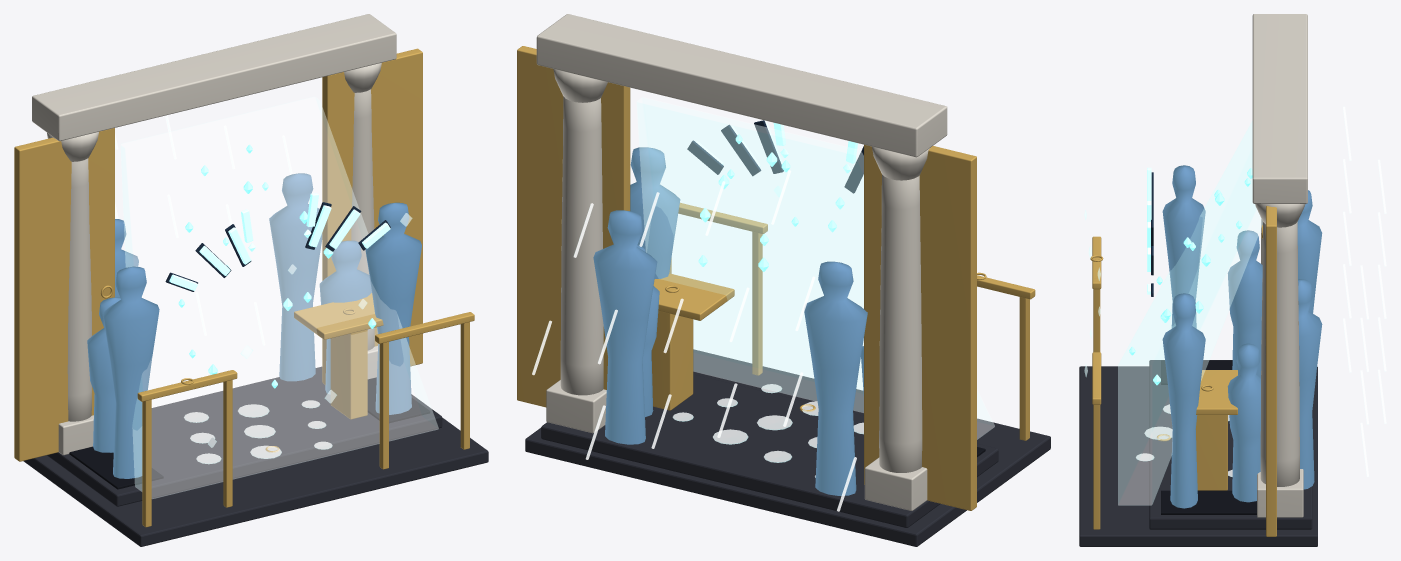
Rendered from webtoon-weather-abyss-storm-mist-100pct-v24.glb.
3 views of the same model, side by side, from view 1: azimuth 30°, elevation 25°; view 2: azimuth 150°, elevation 25°; view 3: azimuth 270°, elevation 25° (orthographic). The views are drawn at different scales.
Parts seen in each view (by area): view 1: Volumetric_V24Beat3_Storm_GodRaySlit, Articulated_V24Beat3_Storm_DoorsAndIkRig, V24Beat3_Storm_DatumDeck, V24Beat3_Storm_PortalColonnade, DatumCrowd_V24Beat3_Storm_Silhouettes, ZDepthSFX_V24Beat3_Storm_GlyphCore, ShadowDrift_V24Beat3_Storm_UmbraMask, Weather_V24Beat3_Storm_IndoorWetRipples, Weather_V24Beat3_Storm_ExteriorOccluded, ZDepthSFX_V24Beat3_Storm_ShadowPlate, Atmospheric_V24Beat3_Storm_MidMotes; view 2: Articulated_V24Beat3_Storm_DoorsAndIkRig, V24Beat3_Storm_PortalColonnade, Volumetric_V24Beat3_Storm_GodRaySlit, V24Beat3_Storm_DatumDeck, DatumCrowd_V24Beat3_Storm_Silhouettes, Weather_V24Beat3_Storm_ExteriorOccluded, ZDepthSFX_V24Beat3_Storm_ShadowPlate, Weather_V24Beat3_Storm_IndoorWetRipples, Atmospheric_V24Beat3_Storm_MidMotes, ZDepthSFX_V24Beat3_Storm_GlyphCore; view 3: DatumCrowd_V24Beat3_Storm_Silhouettes, V24Beat3_Storm_DatumDeck, V24Beat3_Storm_PortalColonnade, Volumetric_V24Beat3_Storm_GodRaySlit, Articulated_V24Beat3_Storm_DoorsAndIkRig, Weather_V24Beat3_Storm_ExteriorOccluded, ShadowDrift_V24Beat3_Storm_UmbraMask, Atmospheric_V24Beat3_Storm_MidMotes, Weather_V24Beat3_Storm_IndoorWetRipples, ZDepthSFX_V24Beat3_Storm_GlyphCore.
Part boxes in pixels (x1,y1,x2,y2): Volumetric_V24Beat3_Storm_GodRaySlit: (121, 97, 438, 498); Articulated_V24Beat3_Storm_DoorsAndIkRig: (14, 48, 474, 527); V24Beat3_Storm_DatumDeck: (23, 366, 488, 546); V24Beat3_Storm_PortalColonnade: (32, 14, 396, 455); DatumCrowd_V24Beat3_Storm_Silhouettes: (87, 173, 421, 478); ZDepthSFX_V24Beat3_Storm_GlyphCore: (169, 193, 390, 290); ShadowDrift_V24Beat3_Storm_UmbraMask: (69, 377, 430, 489); Weather_V24Beat3_Storm_IndoorWetRipples: (184, 400, 332, 464); Weather_V24Beat3_Storm_ExteriorOccluded: (115, 115, 292, 345); ZDepthSFX_V24Beat3_Storm_ShadowPlate: (165, 202, 390, 291); Atmospheric_V24Beat3_Storm_MidMotes: (178, 144, 376, 388); Articulated_V24Beat3_Storm_DoorsAndIkRig: (517, 46, 1035, 510); V24Beat3_Storm_PortalColonnade: (536, 14, 947, 510); Volumetric_V24Beat3_Storm_GodRaySlit: (636, 97, 994, 439); V24Beat3_Storm_DatumDeck: (525, 349, 1050, 546); DatumCrowd_V24Beat3_Storm_Silhouettes: (593, 147, 867, 495); Weather_V24Beat3_Storm_ExteriorOccluded: (532, 170, 856, 511); ZDepthSFX_V24Beat3_Storm_ShadowPlate: (687, 120, 863, 193); Weather_V24Beat3_Storm_IndoorWetRipples: (672, 384, 863, 477); Atmospheric_V24Beat3_Storm_MidMotes: (698, 134, 844, 271); ZDepthSFX_V24Beat3_Storm_GlyphCore: (695, 121, 857, 173); DatumCrowd_V24Beat3_Storm_Silhouettes: (1162, 165, 1322, 508); V24Beat3_Storm_DatumDeck: (1079, 360, 1317, 546); V24Beat3_Storm_PortalColonnade: (1252, 14, 1307, 517); Volumetric_V24Beat3_Storm_GodRaySlit: (1118, 121, 1262, 505); Articulated_V24Beat3_Storm_DoorsAndIkRig: (1090, 206, 1276, 536); Weather_V24Beat3_Storm_ExteriorOccluded: (1343, 106, 1386, 476); ShadowDrift_V24Beat3_Storm_UmbraMask: (1161, 360, 1256, 514); Atmospheric_V24Beat3_Storm_MidMotes: (1129, 168, 1252, 385); Weather_V24Beat3_Storm_IndoorWetRipples: (1136, 404, 1232, 476); ZDepthSFX_V24Beat3_Storm_GlyphCore: (1147, 167, 1151, 294).
Size of the model in its own units: 3.2 by 2.78 by 2.11.
